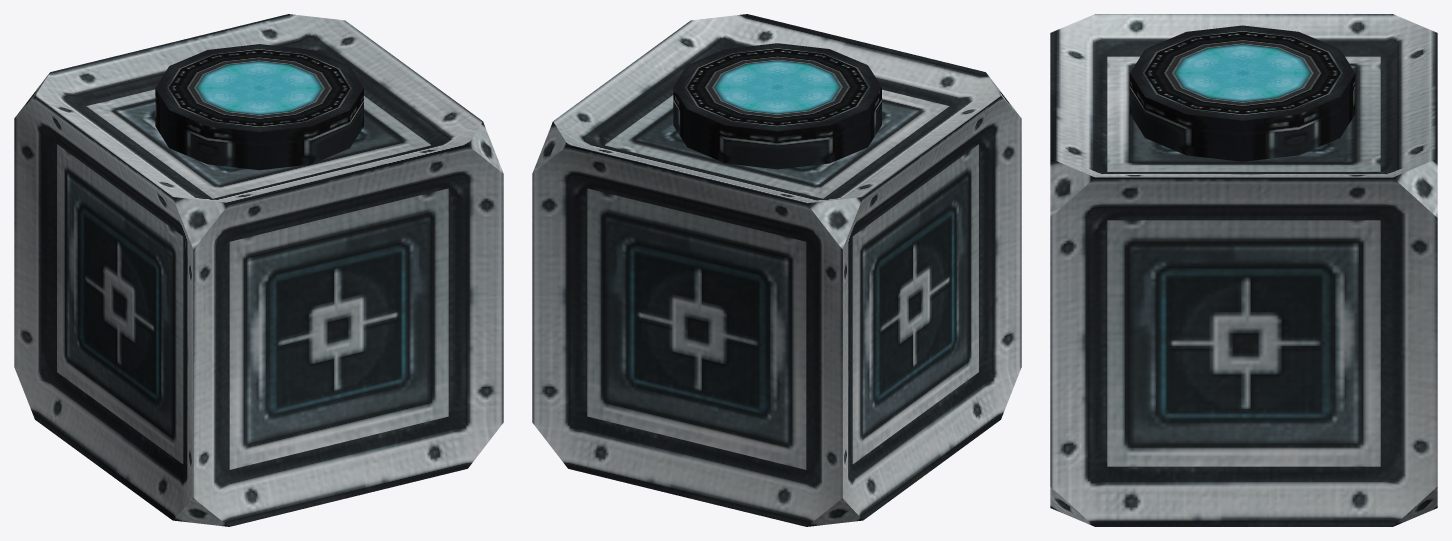
Rendered from Crate03.FBX.
3 renders of one model, left to right at view 1: azimuth 30°, elevation 25°; view 2: azimuth 150°, elevation 25°; view 3: azimuth 270°, elevation 25°, orthographic. The views are drawn at different scales.
Visible parts, largest first — view 1: Crate03; view 2: Crate03; view 3: Crate03.
Boxes of the visible parts, x1=… form: Crate03: x1=14, y1=14, x2=503, y2=526; Crate03: x1=532, y1=14, x2=1021, y2=526; Crate03: x1=1050, y1=14, x2=1437, y2=526.
Bounding box in the file's own units: 142 × 151 × 142.
